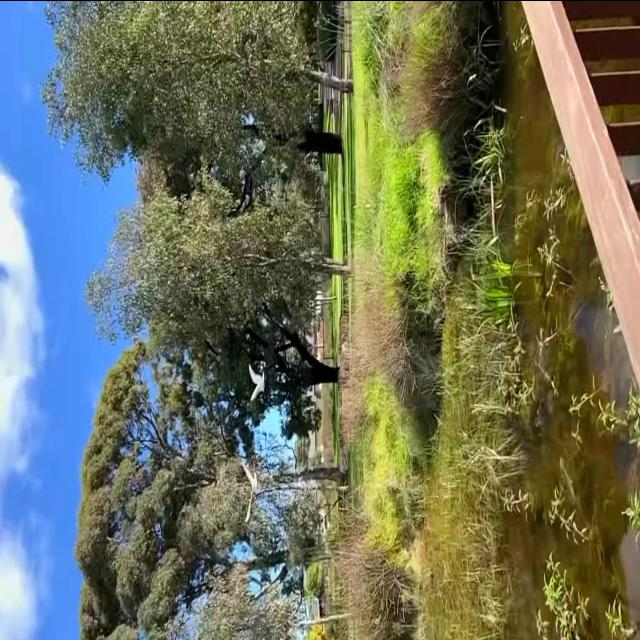Birds-Ibis: (243, 462, 259, 524), (248, 360, 266, 403)
